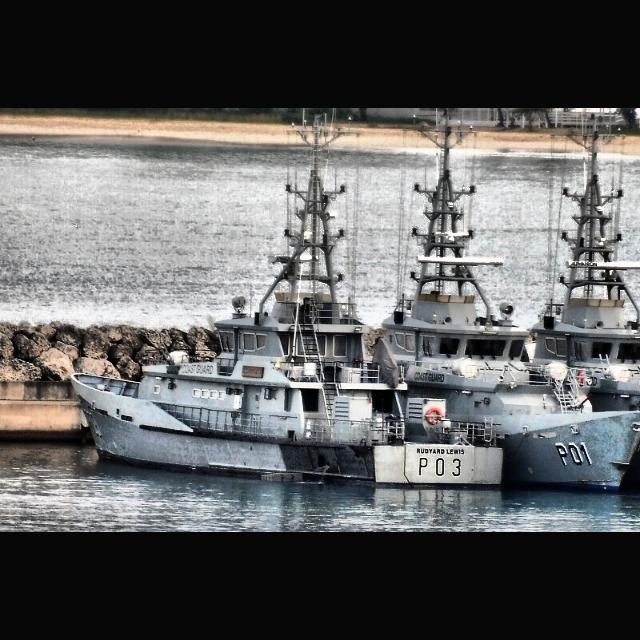patrol_vessel: (66, 252, 508, 488), (330, 266, 640, 498), (484, 240, 640, 496)
